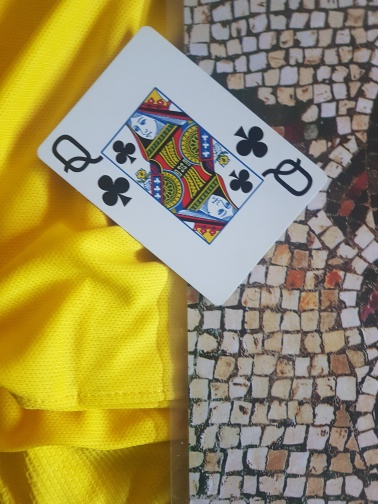queen: (33, 26, 328, 299)
